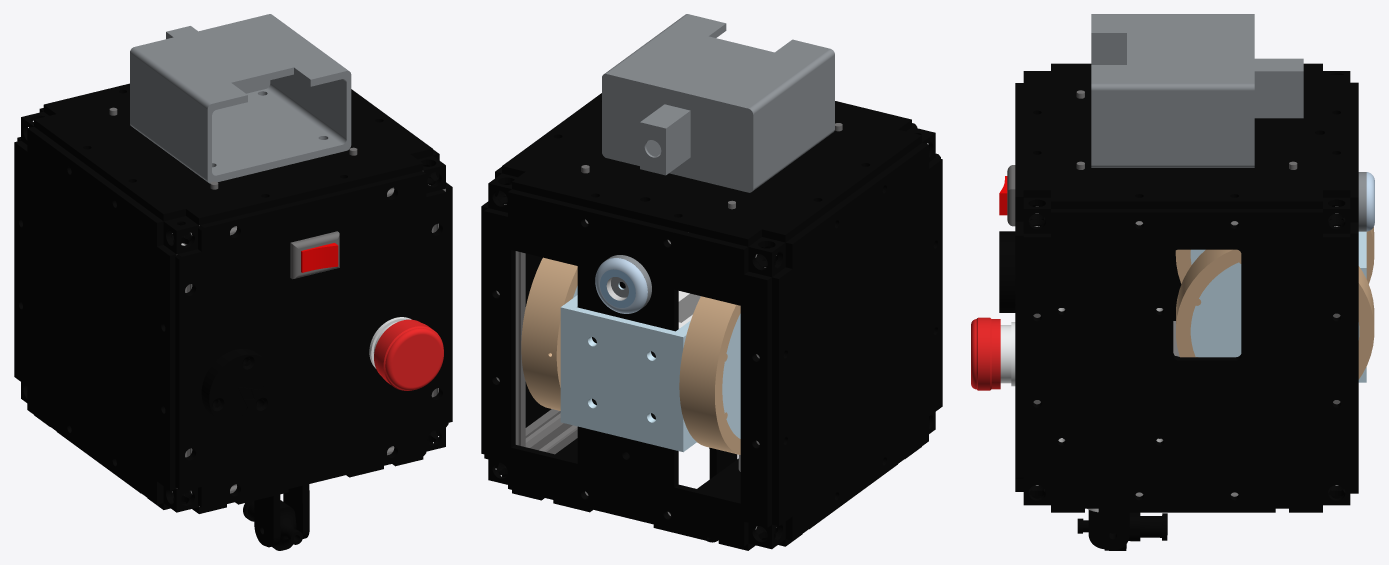
The model's file is assemblage_pami_ninja.gltf.
The picture shows the model from 3 angles, left to right: view 1: azimuth 30°, elevation 25°; view 2: azimuth 150°, elevation 25°; view 3: azimuth 270°, elevation 25°; orthographic projection. The views are drawn at different scales.
Parts seen in each view (by area): view 1: plaque de kotei (×3), dessus, Part 1 (×6), liaison cube (×3), switch_main, switch_second, avant; view 2: plaque de kotei (×3), dessous, Part 1 (×3), pneu (×2), MB300 (×2), liaison cube (×3), avant (×2), Part 2, impression, 17HS08-1004S; view 3: plaque de kotei (×2), Part 1 (×6), pneu (×2), impression, dessous, dessus, liaison cube (×4), avant, Part 2 (×2), switch_main.
Part boxes in pixels (x1,y1,x2,y2): plaque de kotei (×3): (14, 83, 452, 504); dessus: (175, 171, 448, 509); Part 1 (×6): (130, 14, 443, 550); liaison cube (×3): (163, 155, 445, 512); switch_main: (290, 231, 339, 279); switch_second: (301, 243, 338, 272); avant: (34, 415, 288, 513); plaque de kotei (×3): (481, 93, 942, 540); dessous: (484, 189, 771, 546); Part 1 (×3): (560, 14, 834, 452); pneu (×2): (521, 257, 740, 454); MB300 (×2): (496, 204, 577, 454); liaison cube (×3): (488, 173, 785, 549); avant (×2): (502, 438, 921, 550); Part 2: (595, 258, 647, 313); impression: (722, 313, 740, 438); 17HS08-1004S: (678, 291, 700, 328); plaque de kotei (×2): (1023, 63, 1350, 508); Part 1 (×6): (971, 14, 1366, 550); pneu (×2): (1175, 227, 1374, 379); impression: (1190, 262, 1359, 357); dessous: (1350, 82, 1358, 493); dessus: (1015, 83, 1023, 491); liaison cube (×4): (1023, 197, 1350, 505); avant: (1032, 495, 1341, 512); Part 2 (×2): (1000, 172, 1374, 383); switch_main: (1007, 165, 1015, 226).
Size of the model in its own units: 0.126 by 0.2003 by 0.1483.
